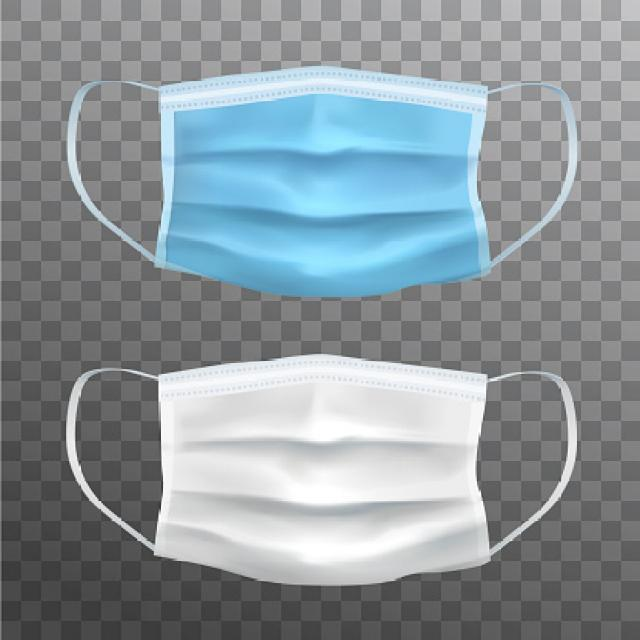face mask: (58, 54, 570, 302), (62, 348, 576, 584)
